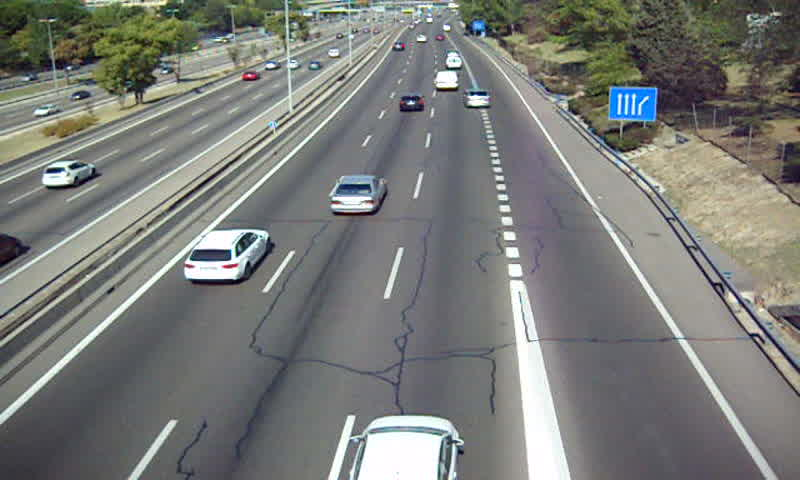car: (184, 229, 271, 284), (330, 174, 386, 216), (464, 87, 492, 109), (397, 94, 425, 113)
van: (433, 70, 459, 92), (448, 55, 463, 70)
